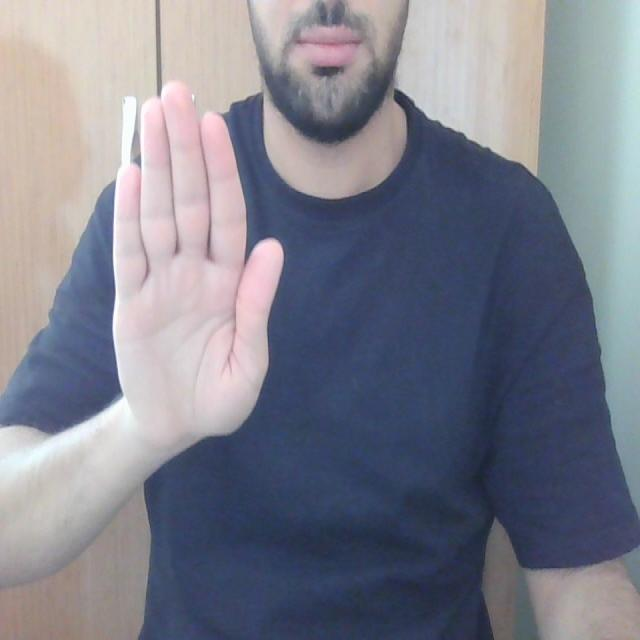Dur: (103, 58, 288, 460)
